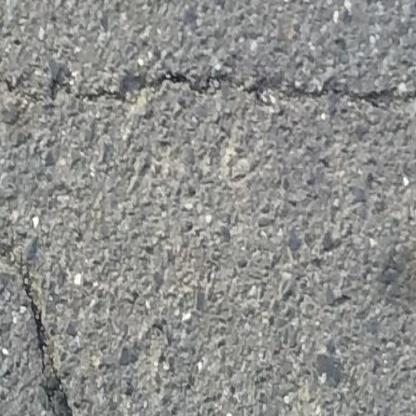Cracks: (0, 44, 416, 140), (0, 213, 83, 416)
